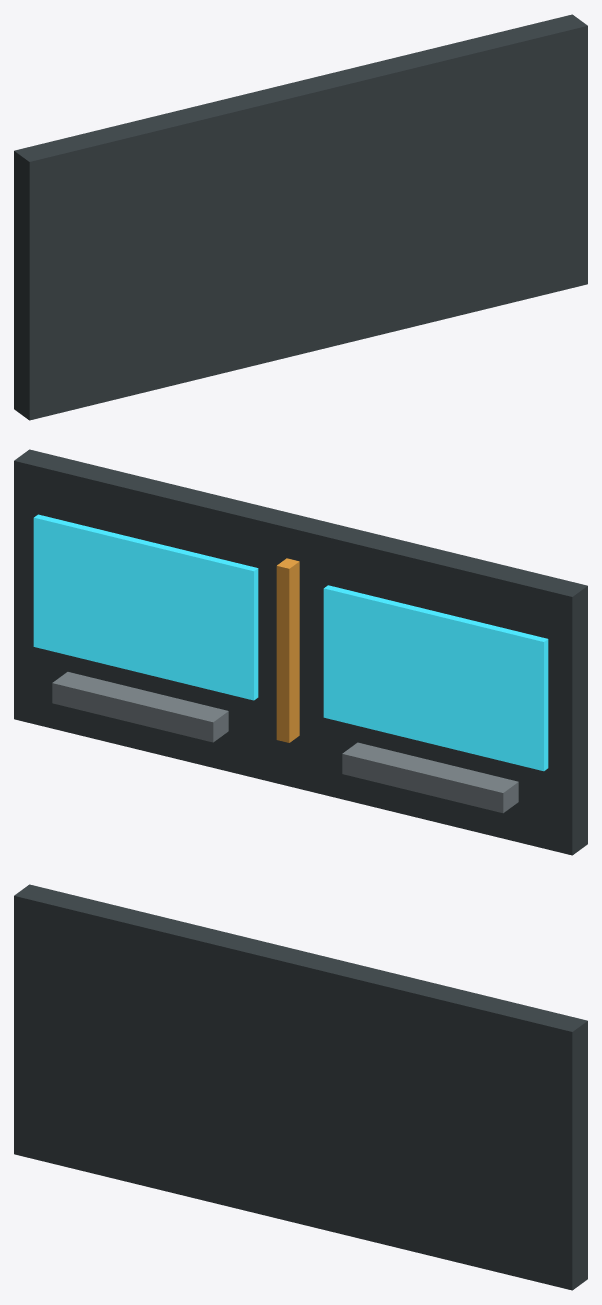
The model's file is gravifire_analysis_wall.glb.
3 views of the same model, one above another, from view 1: azimuth 30°, elevation 25°; view 2: azimuth 150°, elevation 25°; view 3: azimuth 330°, elevation 25° (orthographic).
Visible parts, largest first — view 1: analysis_wall; view 2: analysis_wall, screen_S2, screen_S1, console_S1, console_S2, divider; view 3: analysis_wall.
Part boxes in pixels (bbox=[...]): analysis_wall: bbox=[14, 14, 587, 420]; analysis_wall: bbox=[14, 449, 587, 855]; screen_S2: bbox=[33, 514, 258, 700]; screen_S1: bbox=[323, 585, 548, 771]; console_S1: bbox=[342, 742, 518, 813]; console_S2: bbox=[52, 672, 228, 742]; divider: bbox=[276, 558, 299, 742]; analysis_wall: bbox=[14, 884, 587, 1290].
Bounding box in the file's own units: 5.2 × 2.3 × 0.5.
